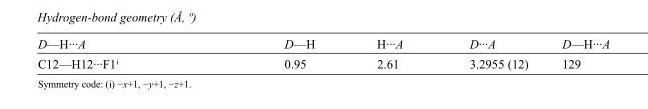table: (36, 36, 609, 70)
table column: (36, 36, 200, 70), (200, 36, 345, 70), (435, 36, 544, 70), (345, 36, 435, 70), (544, 36, 609, 70)
table row: (36, 36, 609, 53), (36, 53, 609, 70)
